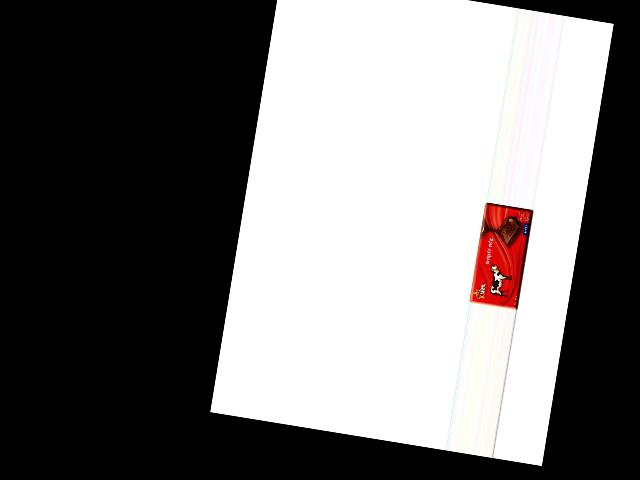chocolate: (468, 201, 533, 310)
